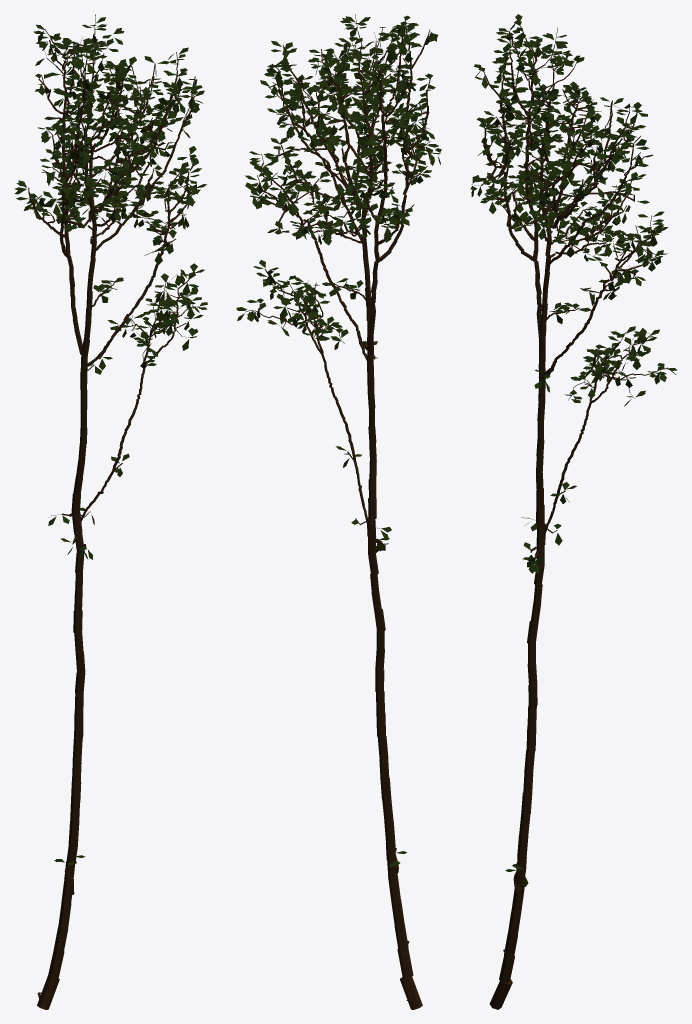
The model's file is tree_257.obj.
The picture shows the model from 3 angles, left to right: view 1: azimuth 30°, elevation 25°; view 2: azimuth 150°, elevation 25°; view 3: azimuth 330°, elevation 25°; orthographic projection.
Visible parts, largest first — view 1: Leaves, TrunkAndBranches; view 2: Leaves, TrunkAndBranches; view 3: Leaves, TrunkAndBranches.
Boxes of the visible parts, <box> form: Leaves: <box>14,17,207,865</box>; TrunkAndBranches: <box>28,14,198,1009</box>; Leaves: <box>236,15,441,866</box>; TrunkAndBranches: <box>245,14,440,1009</box>; Leaves: <box>470,14,677,886</box>; TrunkAndBranches: <box>471,20,667,1009</box>.
Bounding box in the file's own units: 4.51 × 23.74 × 3.04.
